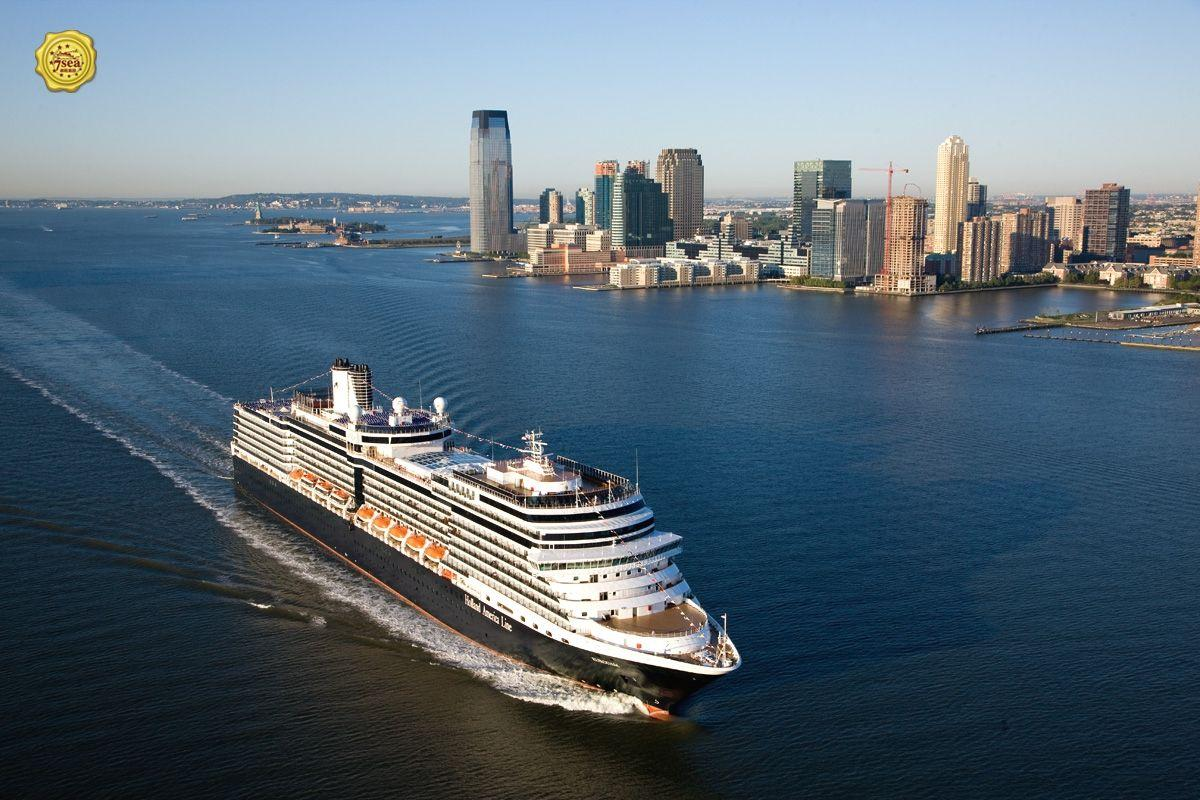youlun: (205, 351, 759, 721)
